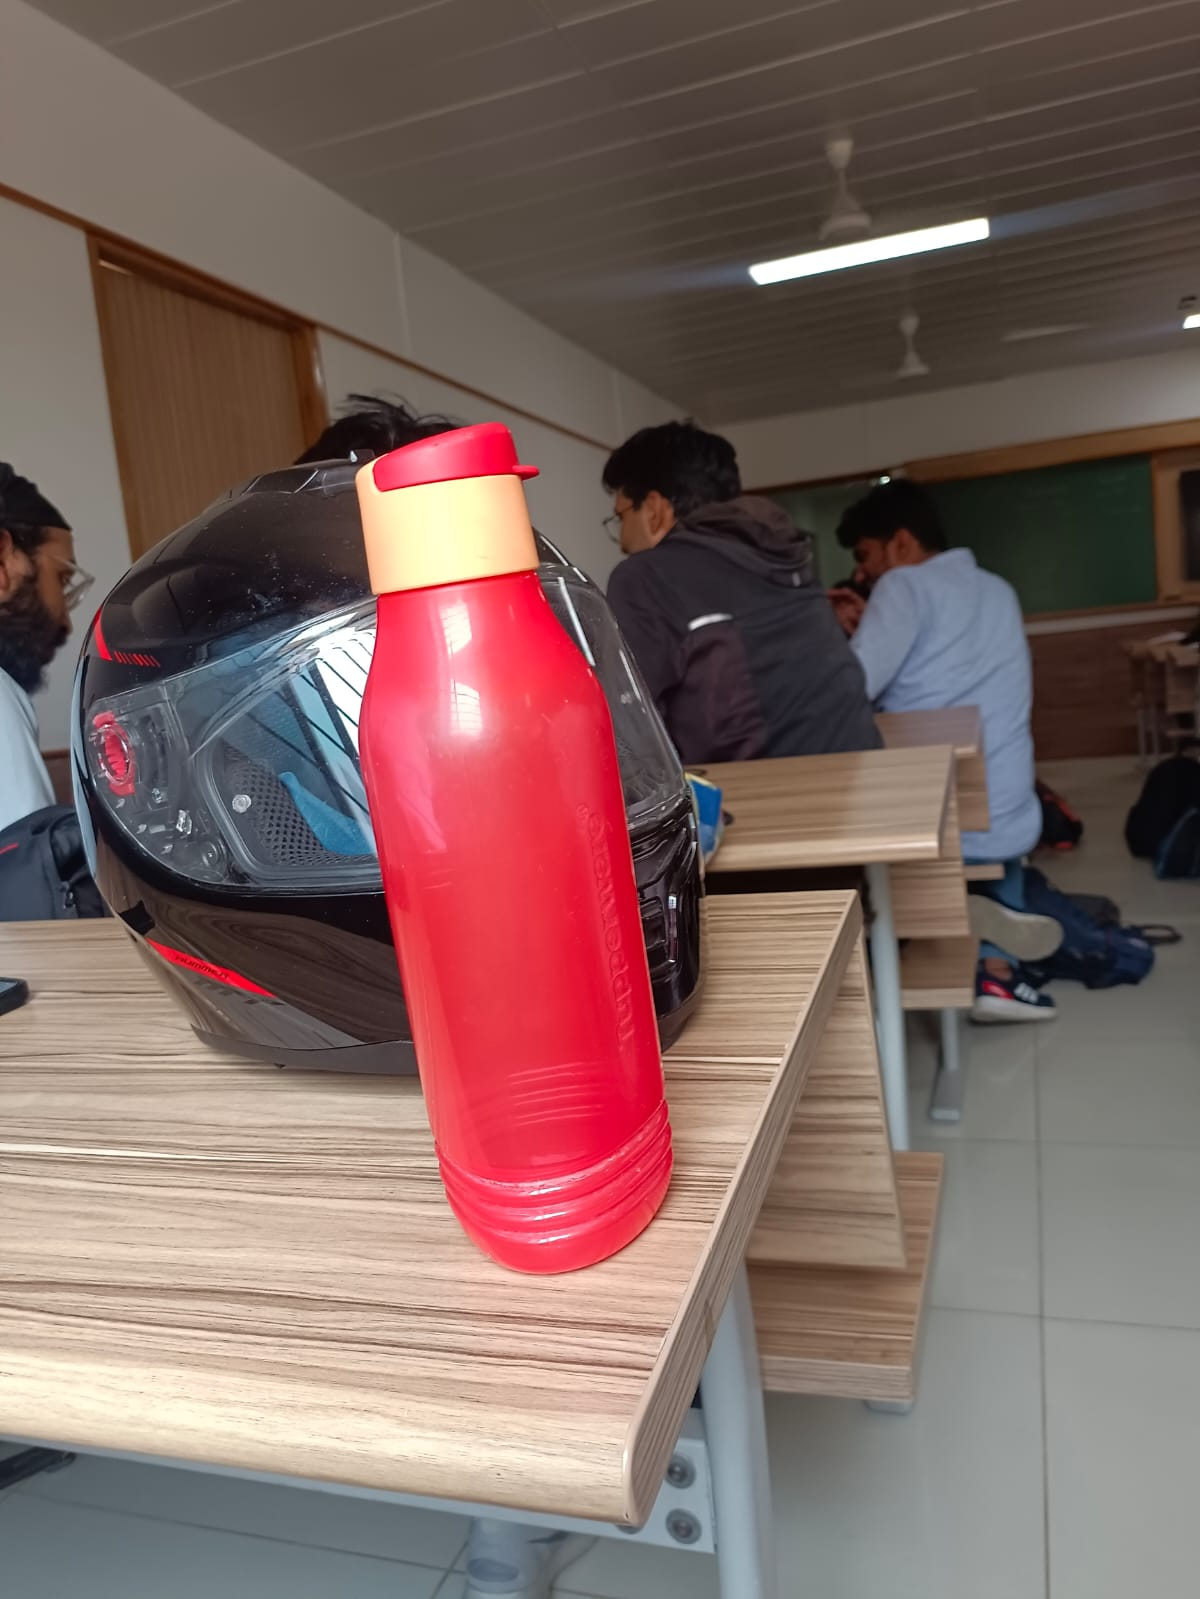bottle: (340, 410, 712, 1279)
